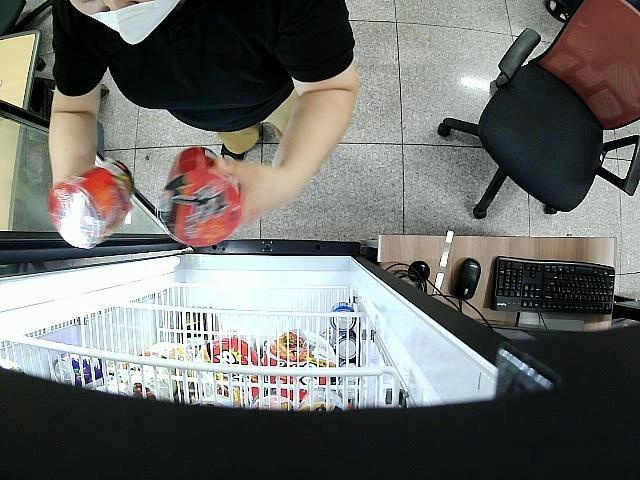02_shinRamen_S: (156, 148, 244, 246), (49, 156, 134, 248)
